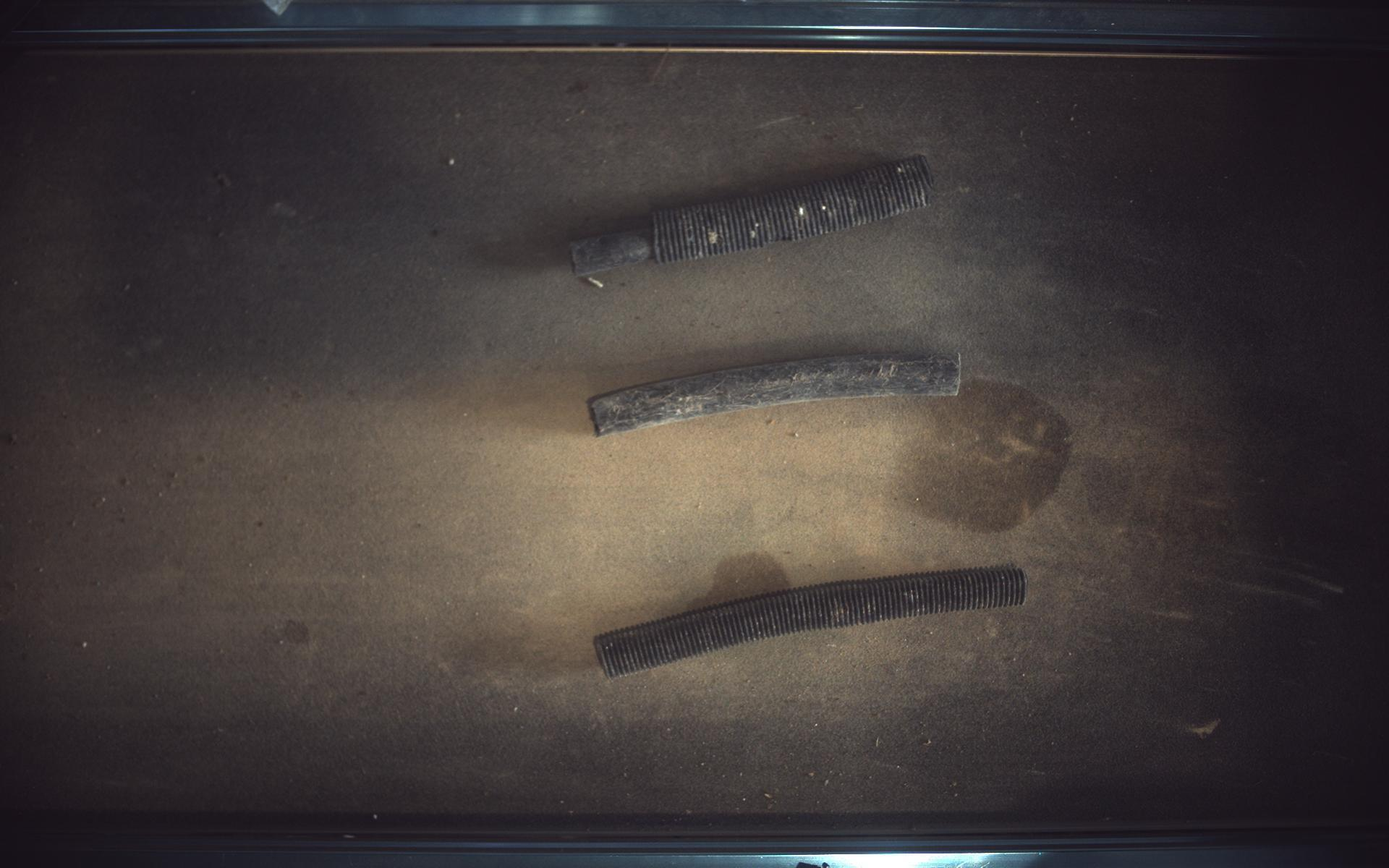pipes: (595, 566, 1028, 679), (571, 154, 934, 276), (589, 353, 962, 436)
